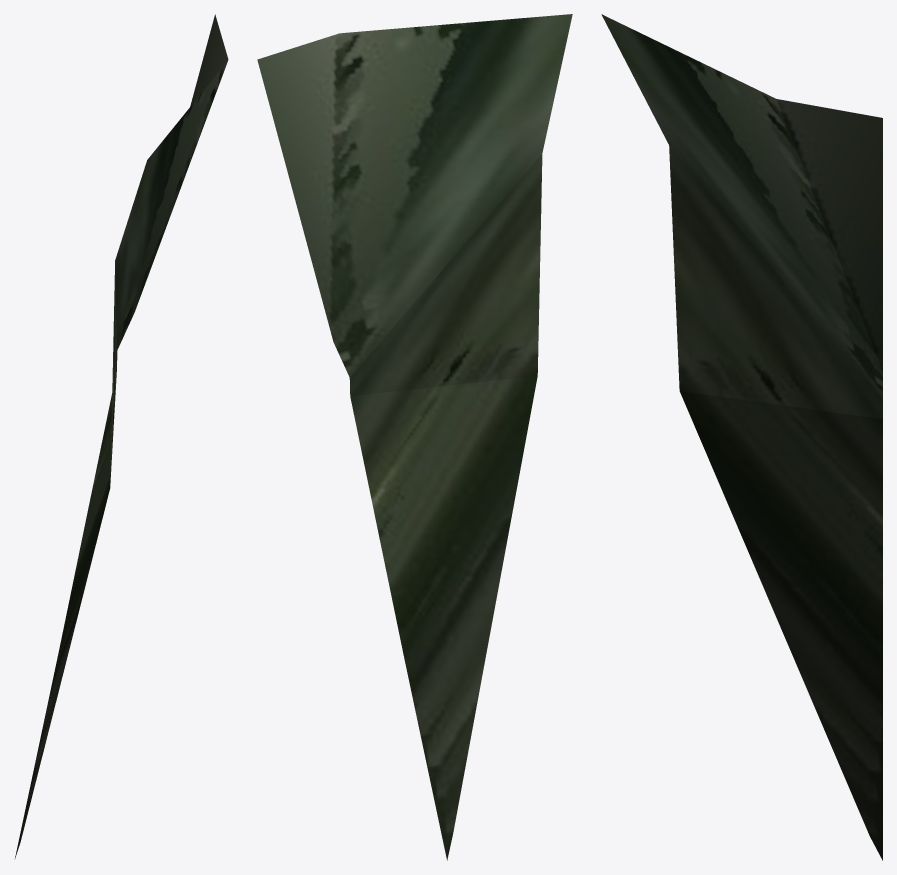
3 views of the same model, side by side, from view 1: azimuth 30°, elevation 25°; view 2: azimuth 150°, elevation 25°; view 3: azimuth 270°, elevation 25° (orthographic). The views are drawn at different scales.
Bounding box in the file's own units: 0.6846 × 2.6 × 0.784.
Materials: 1 (1 with a texture image).
